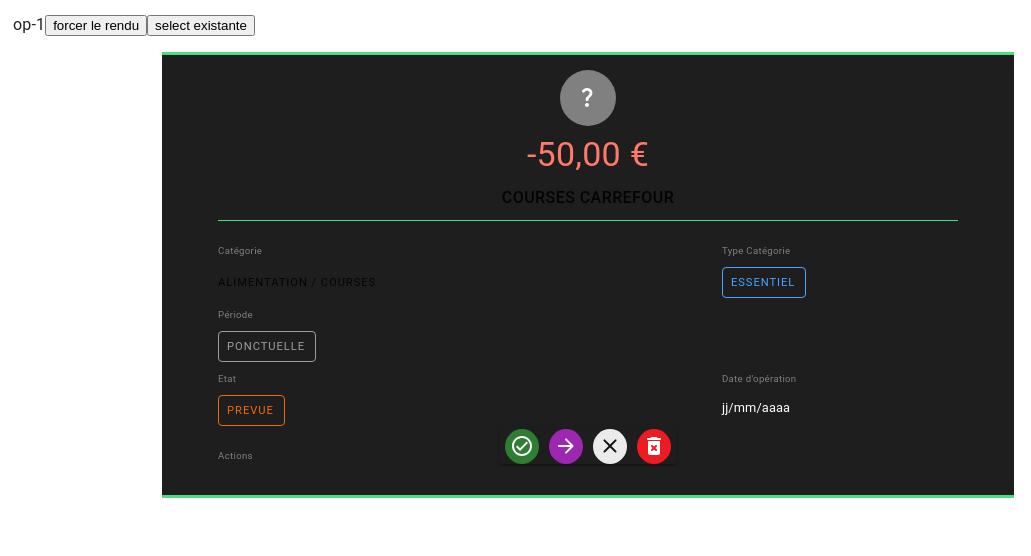
Test case: OperationDetailPage - intégration › ouverture de l'édition au clic sur un champ › un seul clic sur le champ typeCategorie l'ouvre, sans re-rendu forcé
The image size is (1031, 556).
Click the text "Essentiel": (764, 282) 722,267 -> 806,298
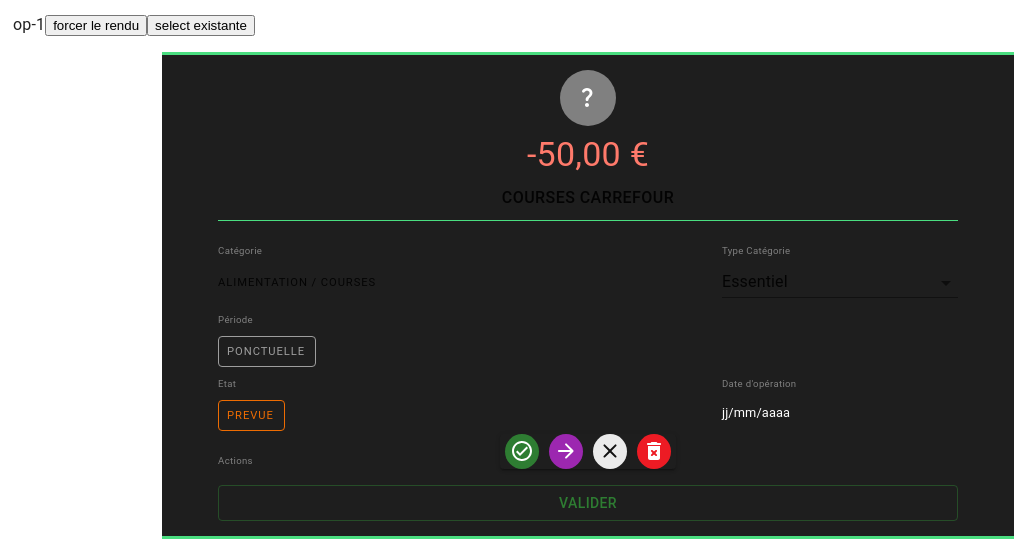
Expected: the dropdown with id "OPERATION_TYPE_CATEGORIE_INPUT" reads "Essentiel", 722,272 -> 788,291
Expected: the button "Valider" is shown, 218,485 -> 958,522
